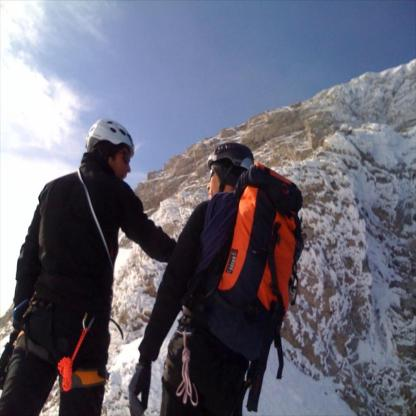Helmet: (84, 117, 131, 185), (207, 143, 252, 195)
